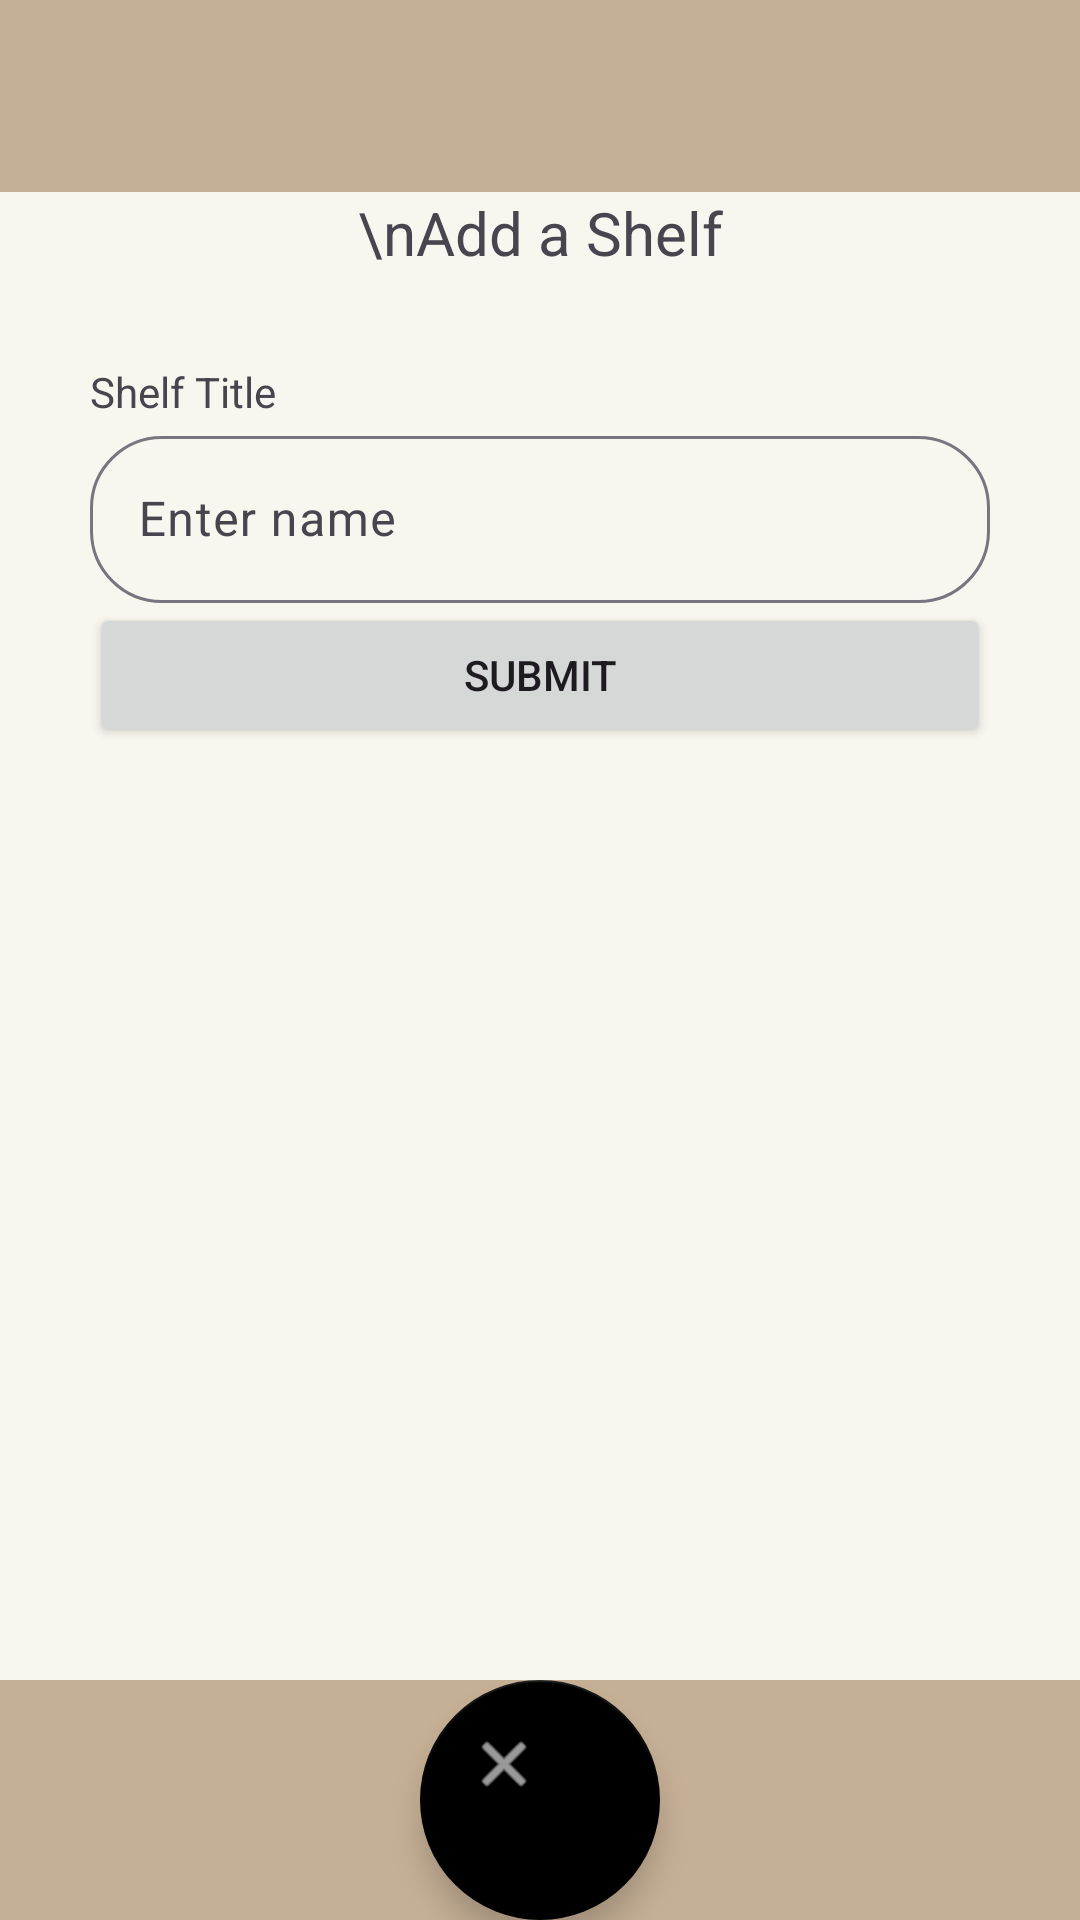

Icons on this 1080 × 1920 Android screen, each with its box as (x1, y1, x2, y2):
Cancel: (420, 1680, 660, 1920)
